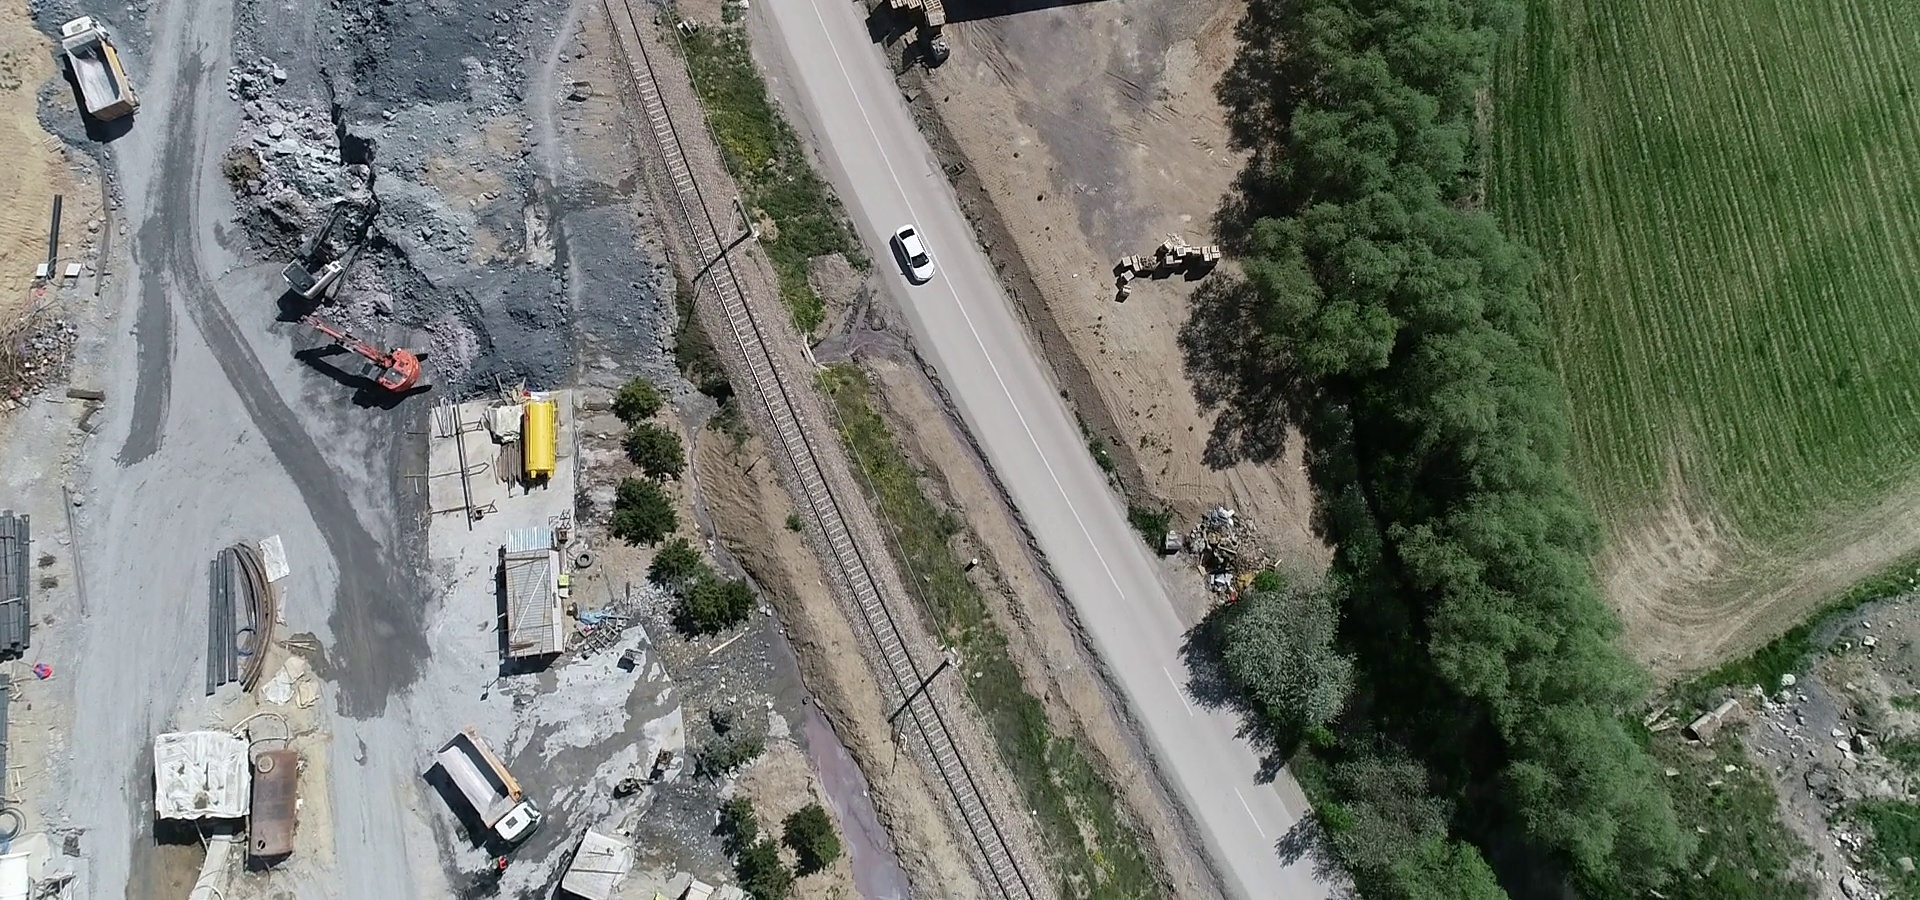arac: (416, 726, 550, 856), (267, 192, 403, 302), (302, 309, 442, 410), (51, 10, 146, 133), (885, 220, 944, 288)
